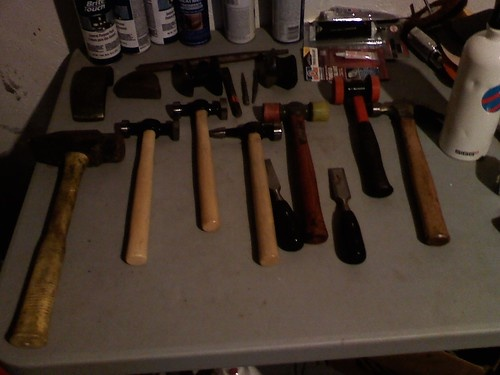hammer: (9, 123, 125, 341), (370, 100, 462, 244), (212, 119, 286, 267), (111, 117, 182, 263), (262, 99, 331, 245), (167, 98, 229, 231), (332, 76, 395, 199)
